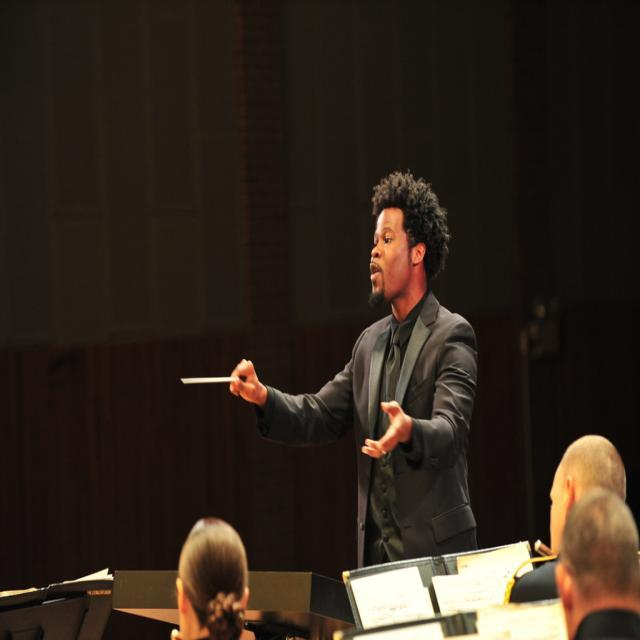Nonhelmet: (359, 164, 459, 318)
